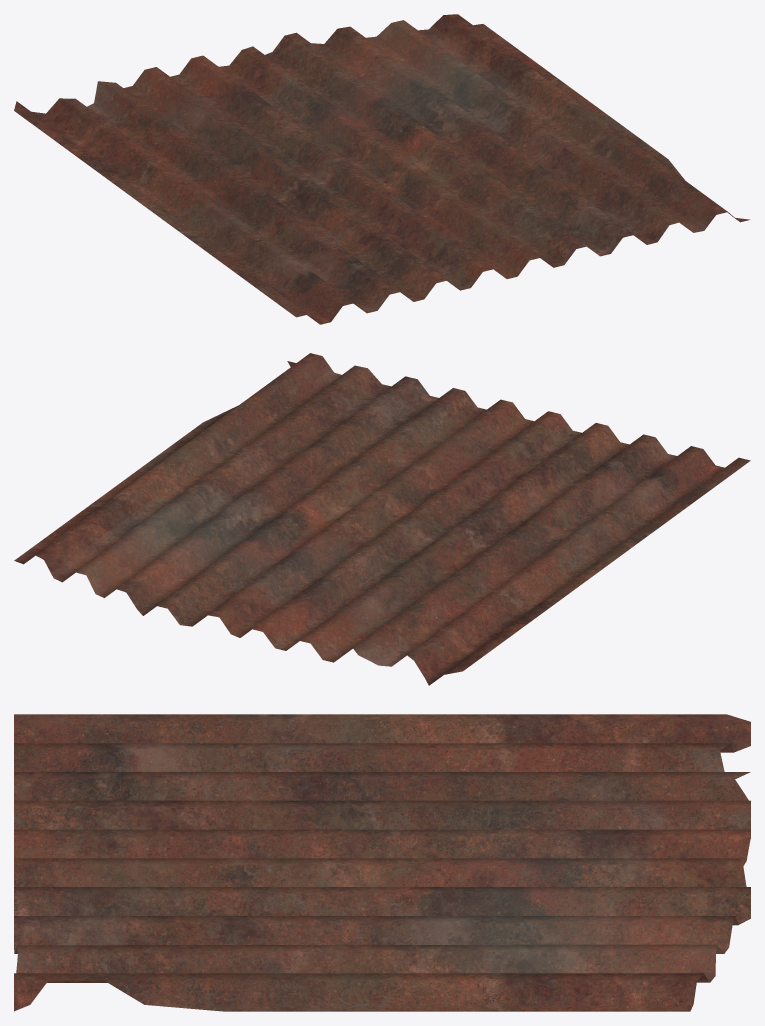
The model's file is SM_corrugated_metal_03.gltf.
The picture shows the model from 3 angles, top to bottom: view 1: azimuth 30°, elevation 25°; view 2: azimuth 150°, elevation 25°; view 3: azimuth 270°, elevation 25°; orthographic projection. The views are drawn at different scales.
Visible parts, largest first — view 1: SM_corrugated_metal_03; view 2: SM_corrugated_metal_03; view 3: SM_corrugated_metal_03.
Part boxes in pixels (x1,y1,x2,y2): SM_corrugated_metal_03: (14, 14, 750, 324); SM_corrugated_metal_03: (14, 353, 750, 685); SM_corrugated_metal_03: (14, 714, 750, 1011).
Size of the model in its own units: 1.8 by 0.05 by 2.
1 material, 1 textured.
